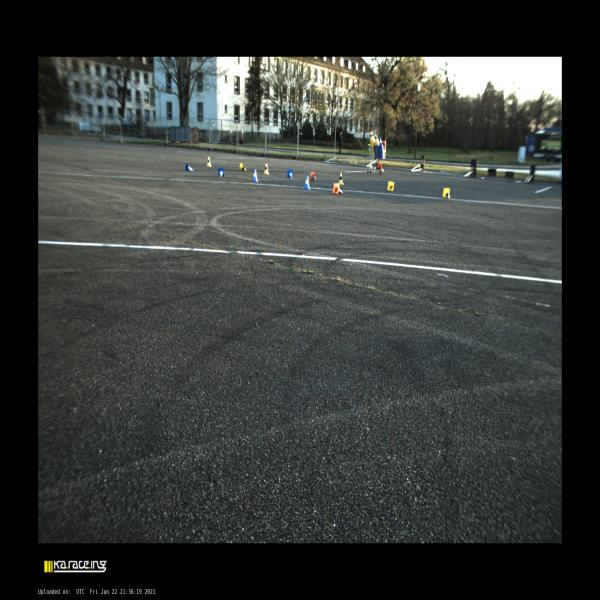blue_cone: (304, 176, 311, 189), (252, 169, 258, 182), (185, 164, 193, 172), (218, 168, 224, 177), (288, 169, 292, 178)
orange_cone: (333, 183, 342, 194), (310, 172, 315, 182)
yellow_cone: (443, 188, 450, 199), (338, 172, 344, 184), (387, 181, 394, 191), (206, 157, 212, 167), (239, 163, 246, 171), (264, 164, 269, 174)
